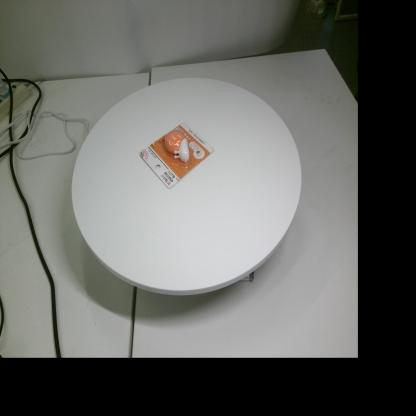Stationery: (140, 123, 214, 189)
